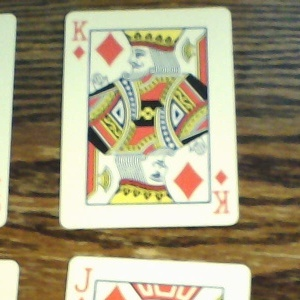card: (59, 6, 240, 229)
